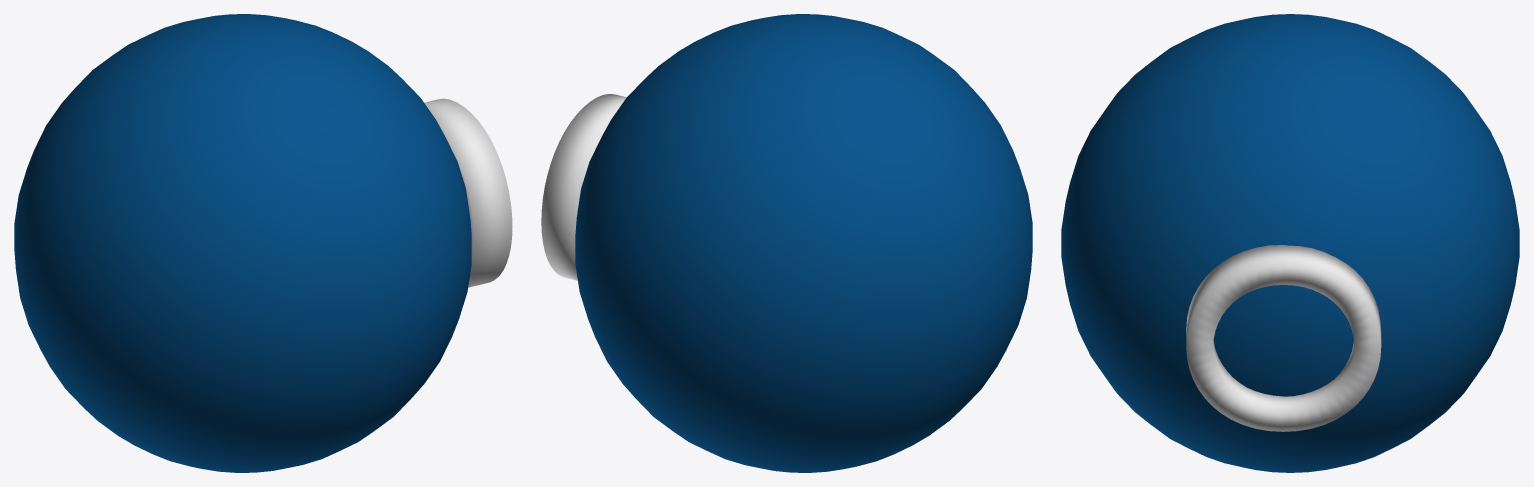
3 renders of one model, left to right at view 1: azimuth 30°, elevation 25°; view 2: azimuth 150°, elevation 25°; view 3: azimuth 270°, elevation 25°, orthographic.
Parts seen in each view (by area): view 1: テキスト; view 2: テキスト; view 3: テキスト.
Boxes of the visible parts, left/top/right/bottom form: テキスト: left=14, top=14, right=512, bottom=472; テキスト: left=541, top=14, right=1032, bottom=472; テキスト: left=1061, top=14, right=1519, bottom=472.
Size of the model in its own units: 209 by 200 by 200.
